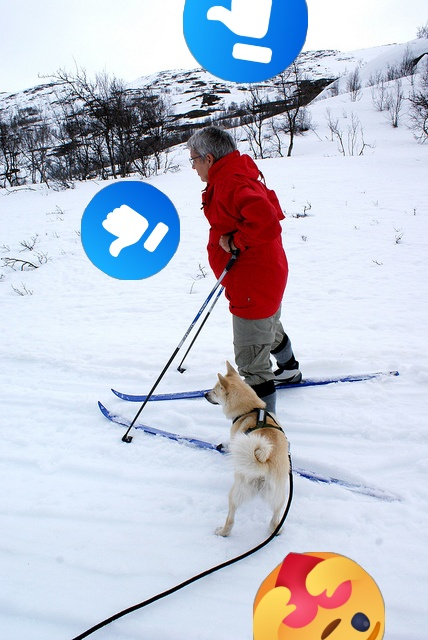care: (253, 552, 385, 640)
like: (183, 0, 308, 83), (81, 181, 180, 280)
